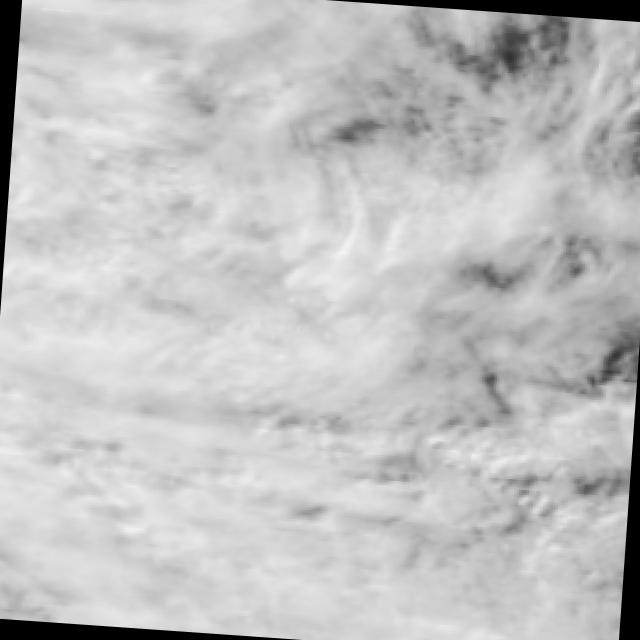CB: (0, 180, 255, 399), (205, 401, 436, 640), (0, 379, 218, 632), (9, 0, 269, 197), (244, 184, 455, 415), (419, 427, 632, 640), (258, 0, 467, 213)
